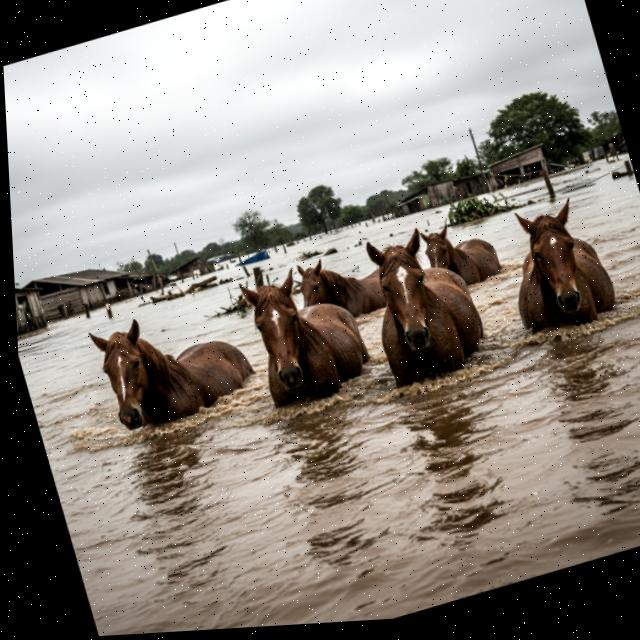horse: (66, 277, 270, 460), (350, 211, 499, 396), (220, 249, 378, 420), (485, 180, 640, 346), (275, 233, 396, 337), (407, 202, 510, 312)
